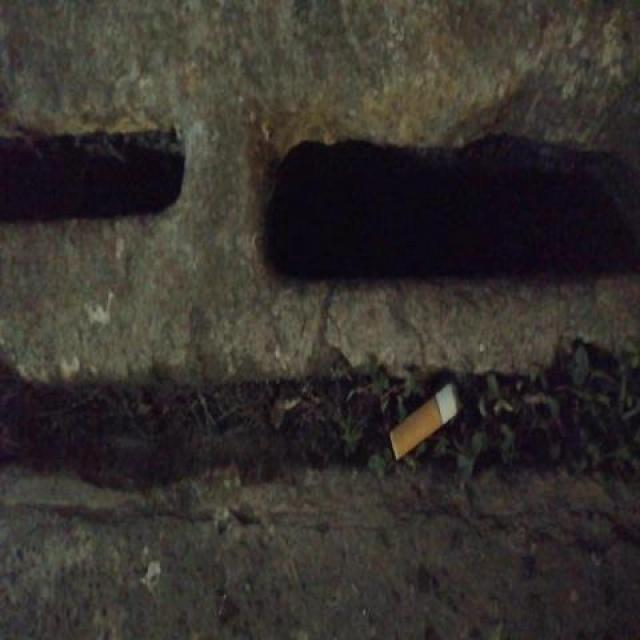non-organic waste: (387, 377, 466, 466)
